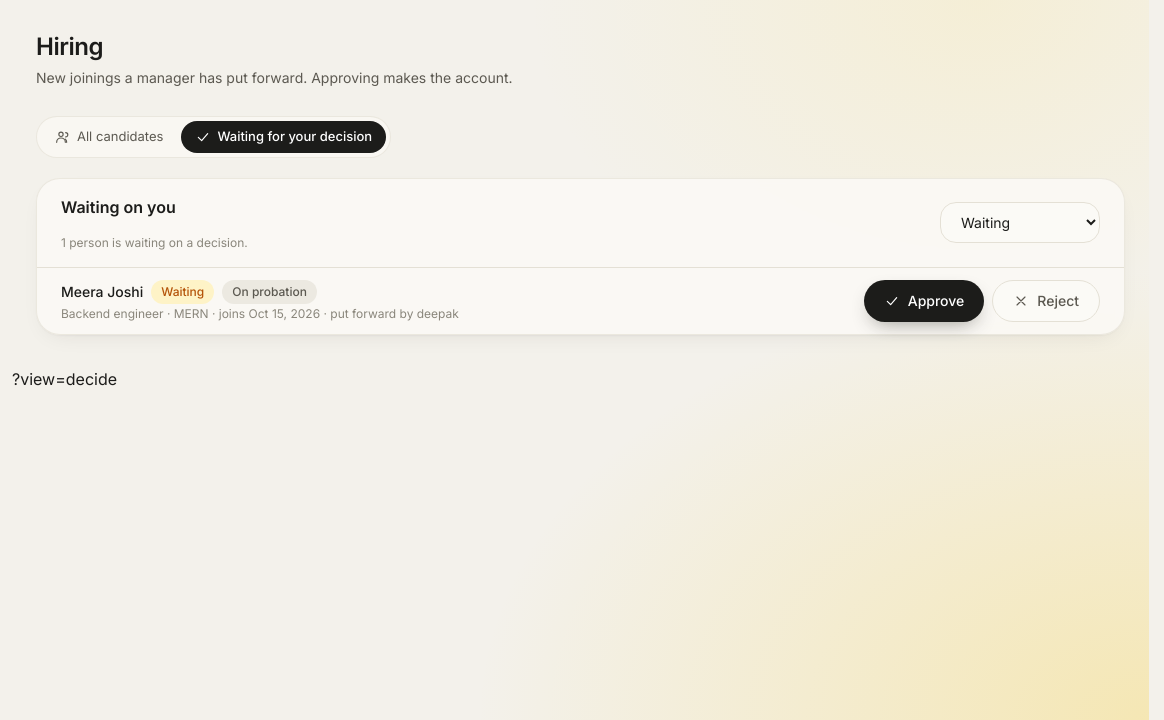
Test case: the switch between everybody and what waits on you › goes back to everybody from the waiting ones
Expected: the heading "Waiting on you" is shown, [61,197,176,217]
Click the link "All candidates". click: (109, 137)
box: [55,128,163,145]
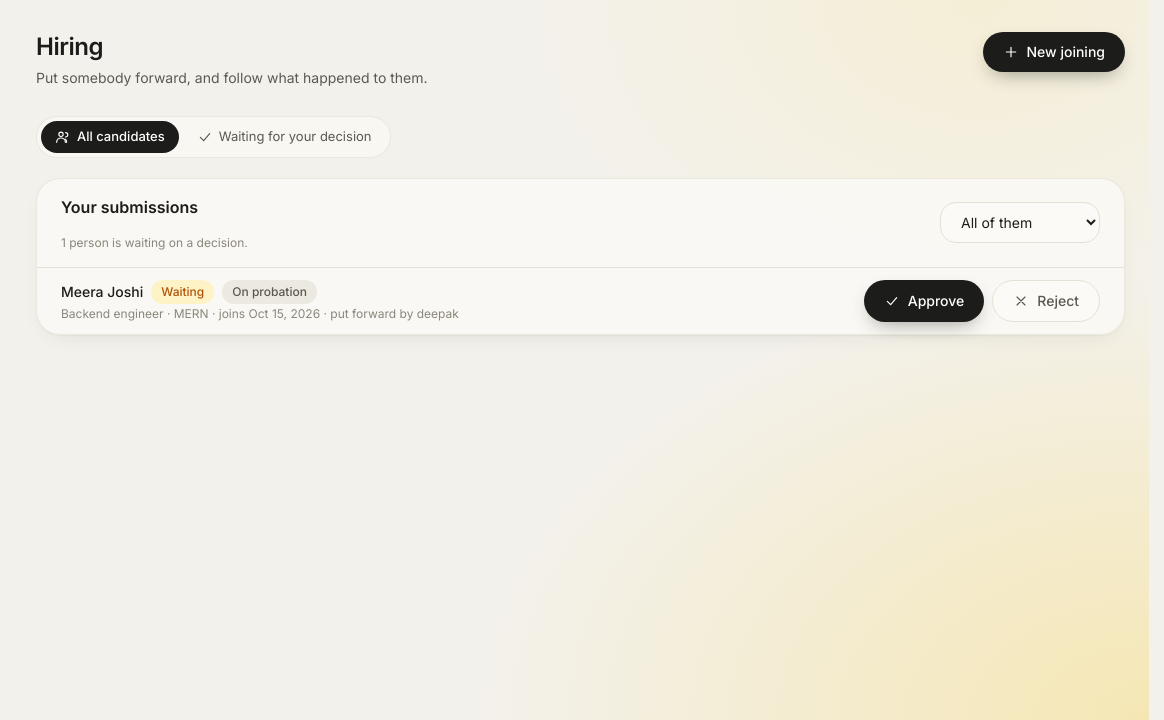
Now the heading "Your submissions" is shown, box [61,197,198,217]
